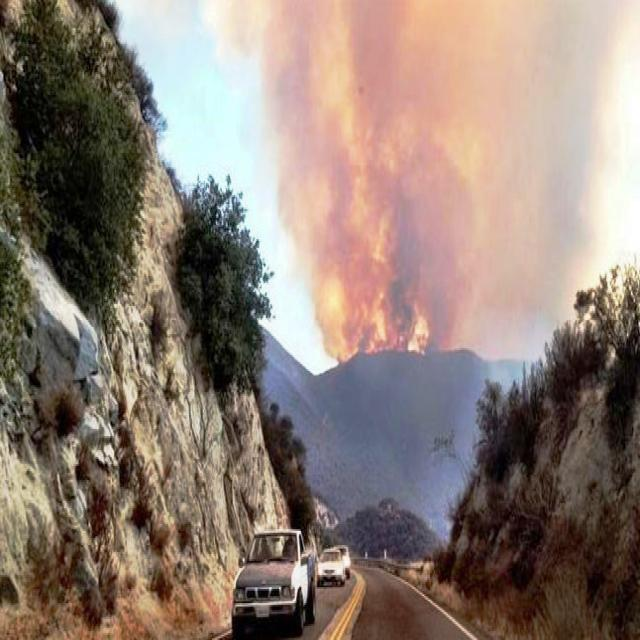asap: (211, 1, 640, 382)
